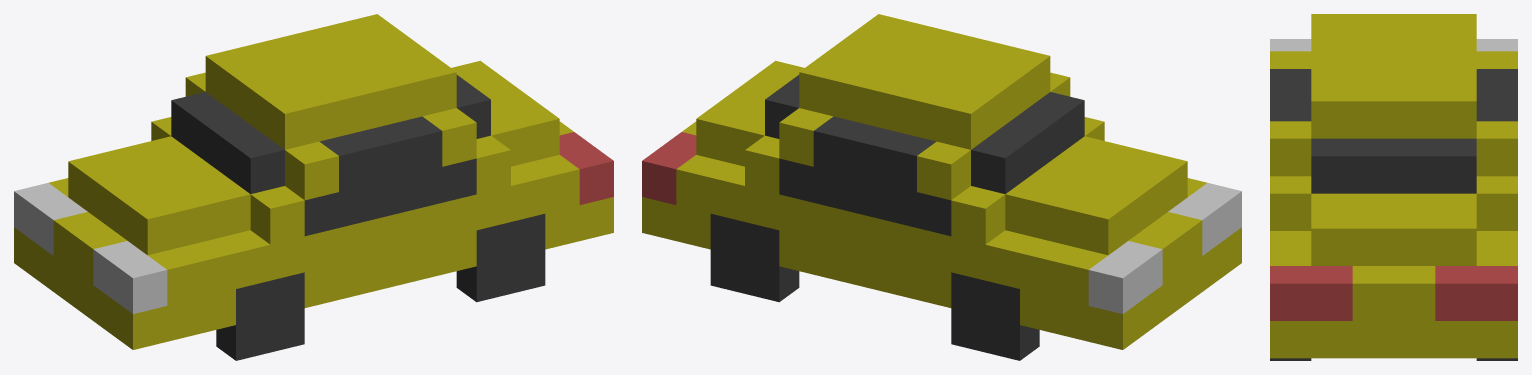
Rendered from car-v6-yellow.gltf.
3 renders of one model, left to right at view 1: azimuth 30°, elevation 25°; view 2: azimuth 150°, elevation 25°; view 3: azimuth 270°, elevation 25°, orthographic. The views are drawn at different scales.
Parts seen in each view (by area): view 1: model, wheels; view 2: model, wheels; view 3: model, wheels.
Part boxes in pixels (x1,y1,x2,y2): model: (14,14,613,349); wheels: (216,214,545,360); model: (642,14,1241,349); wheels: (710,214,1039,360); model: (1270,14,1517,358); wheels: (1270,358,1517,360).
Size of the model in its own units: 1.4 by 0.6 by 0.6.
Materials: 2 (2 with a texture image).
